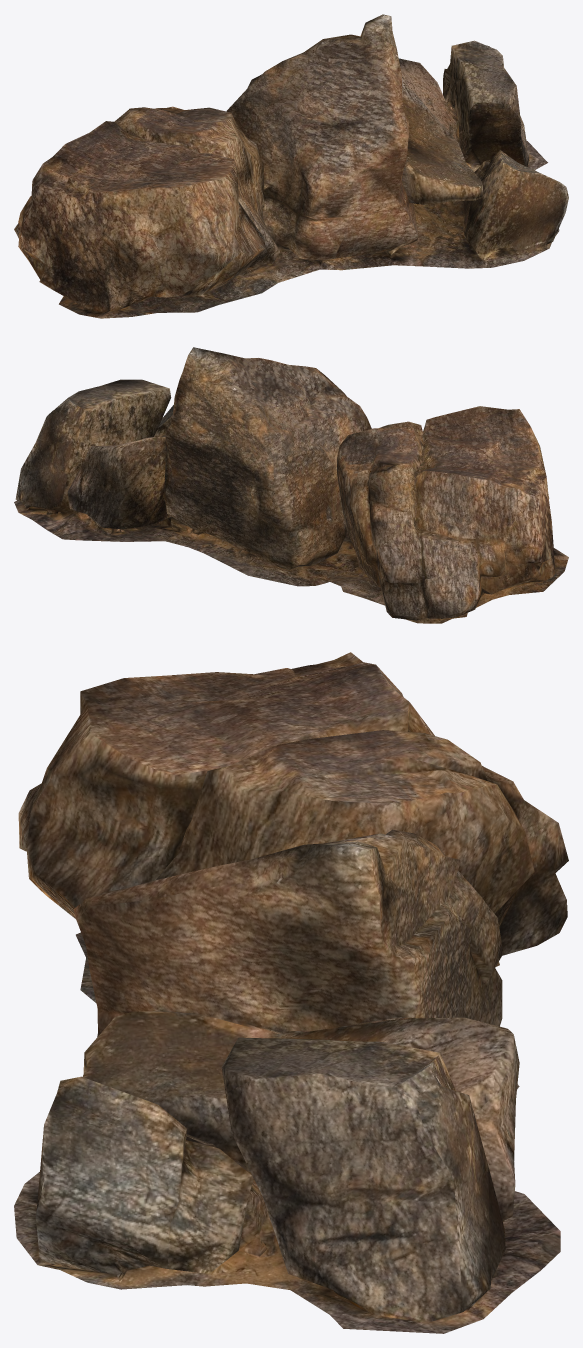
The model's file is road_rocks.glb.
3 renders of one model, top to bottom at view 1: azimuth 30°, elevation 25°; view 2: azimuth 150°, elevation 25°; view 3: azimuth 270°, elevation 25°, orthographic. The views are drawn at different scales.
Parts seen in each view (by area): view 1: road_rocks; view 2: road_rocks; view 3: road_rocks.
Part boxes in pixels (<box>): road_rocks: <box>14,14,568,318</box>; road_rocks: <box>14,347,568,623</box>; road_rocks: <box>14,652,568,1333</box>.
Size of the model in its own units: 2.51 by 0.8788 by 1.23.
1 material, 1 textured.
